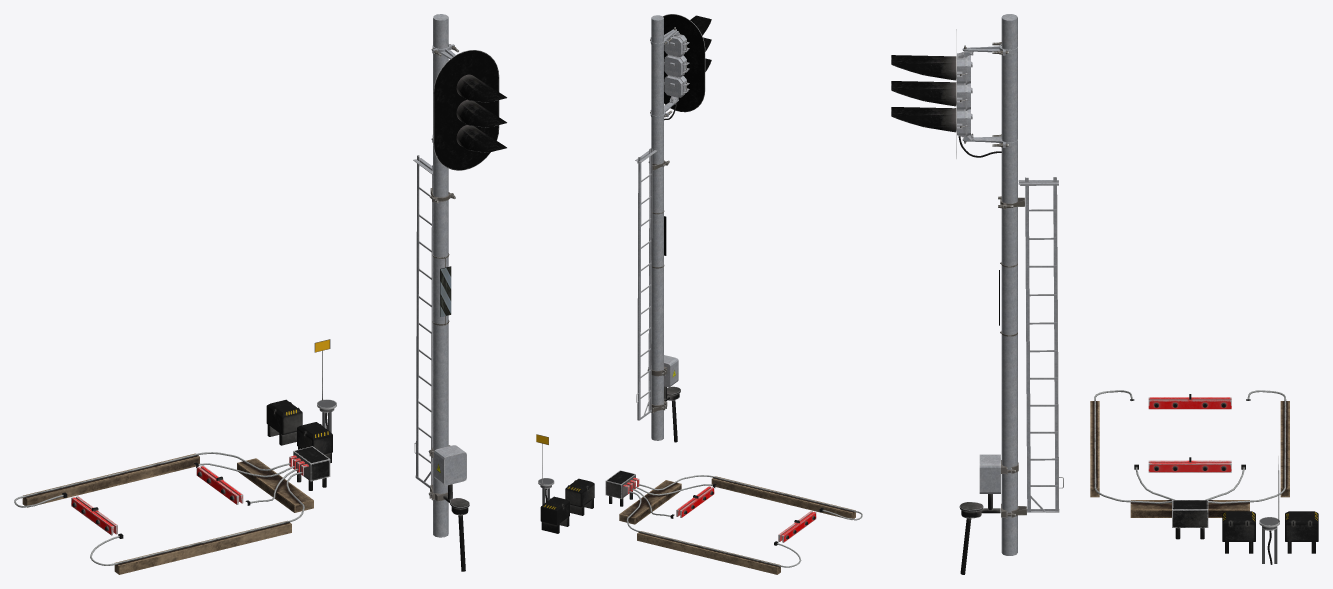
Rendered from RM_sig_P_MM2_YGR_3_T_line.gltf.
3 renders of one model, left to right at view 1: azimuth 30°, elevation 25°; view 2: azimuth 150°, elevation 25°; view 3: azimuth 270°, elevation 25°, orthographic. The views are drawn at different scales.
Parts seen in each view (by area): view 1: Светофор 3, Изостык; view 2: Светофор 3, Изостык; view 3: Светофор 3, Изостык.
Part boxes in pixels (x1,y1,x2,y2): Светофор 3: (413,14,507,571); Изостык: (14,339,336,574); Светофор 3: (635,14,711,442); Изостык: (536,434,862,574); Светофор 3: (891,14,1063,574); Изостык: (1090,390,1318,564).
Size of the model in its own units: 4.22 by 6.54 by 4.55.
3 materials, 2 textured.
